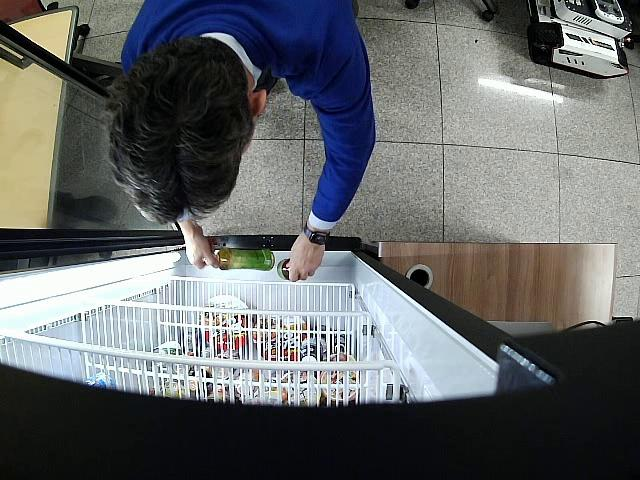00_hand: (179, 222, 220, 270), (289, 243, 321, 282)
19_17cha: (204, 249, 275, 271), (278, 258, 289, 280)
